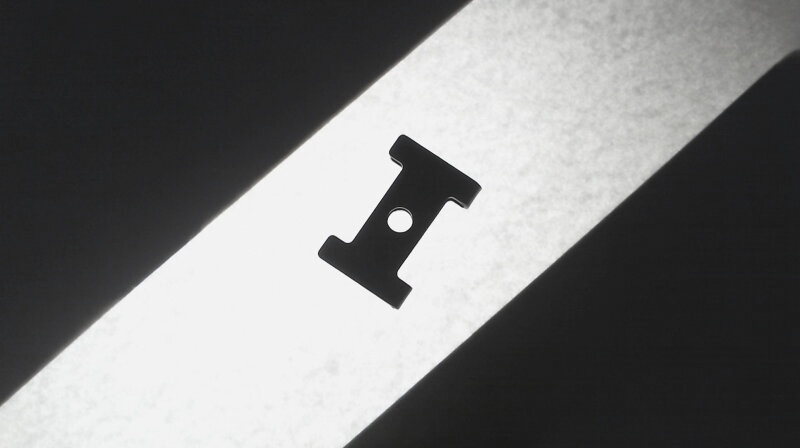O002: (312, 130, 484, 311)
